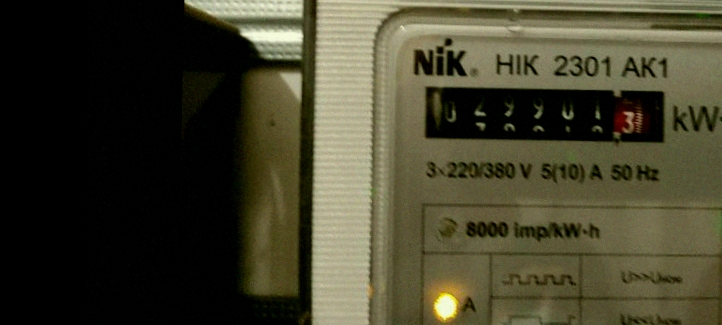0: (441, 96, 460, 123), (560, 92, 577, 122)
1: (591, 92, 605, 120)
2: (471, 90, 490, 118)
3: (620, 108, 638, 134)
9: (501, 91, 518, 118), (532, 93, 546, 120)
screen: (416, 75, 677, 153)
